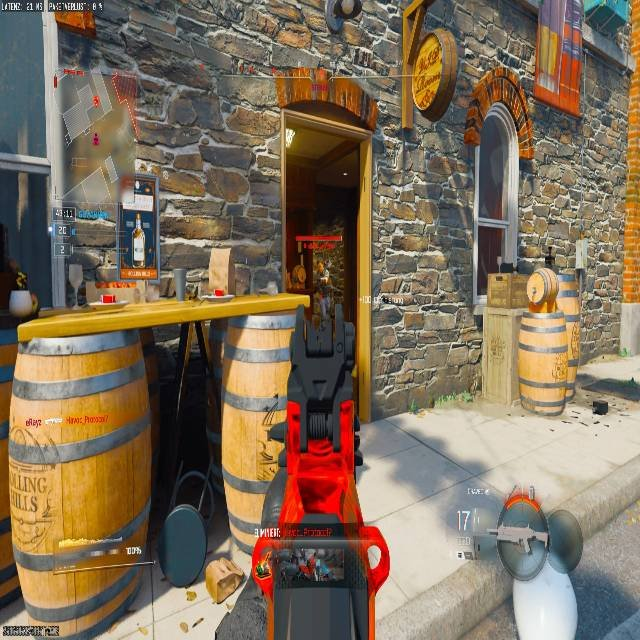head: (495, 490, 584, 579)
